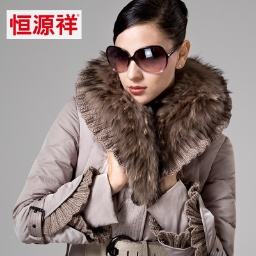face: (107, 1, 189, 105)
